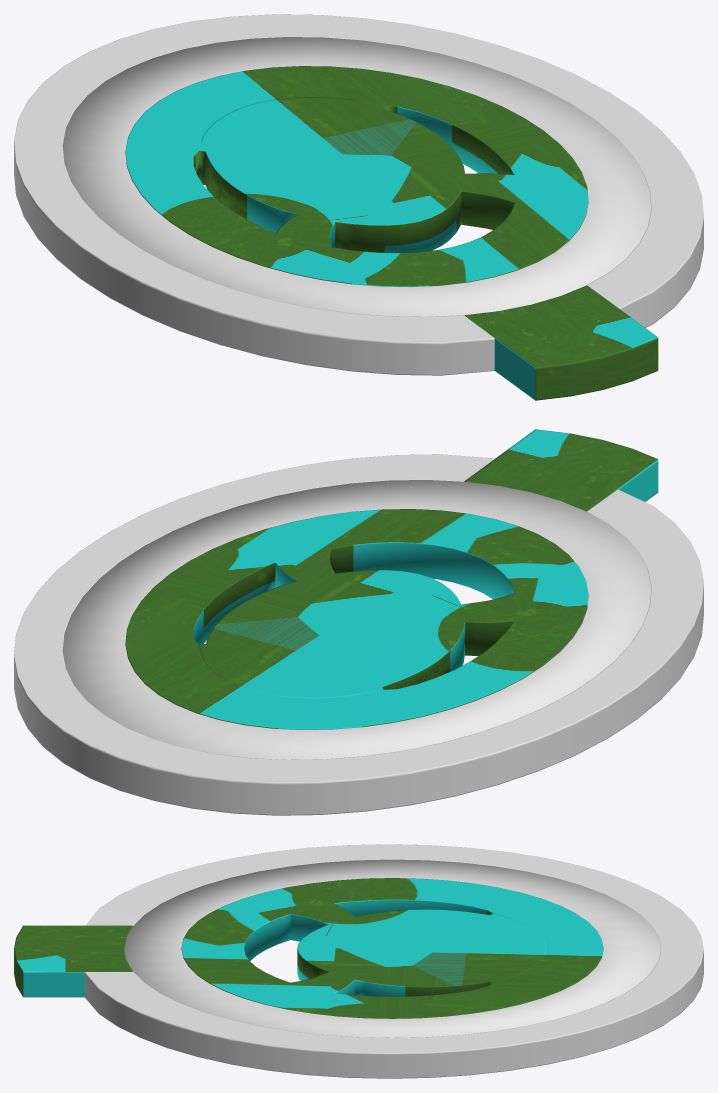
File: goddessShrineFloorUpdate.fbx
3 views of the same model, one above another, from view 1: azimuth 30°, elevation 25°; view 2: azimuth 150°, elevation 25°; view 3: azimuth 270°, elevation 25° (orthographic). The views are drawn at different scales.
Parts seen in each view (by area): view 1: floor, floorOuter, floorGlass; view 2: floor, floorOuter, floorGlass; view 3: floor, floorOuter, floorGlass.
Boxes of the visible parts, box(x1,y1,x2,y2) form: floor: box(125, 66, 658, 400); floorOuter: box(14, 14, 703, 375); floorGlass: box(62, 37, 651, 316); floor: box(125, 429, 658, 729); floorOuter: box(14, 454, 703, 815); floorGlass: box(62, 480, 651, 759); floor: box(14, 878, 603, 1018); floorOuter: box(84, 844, 703, 1078); floorGlass: box(124, 859, 660, 1037).
Bounding box in the file's own units: 3847 × 225 × 5367.
